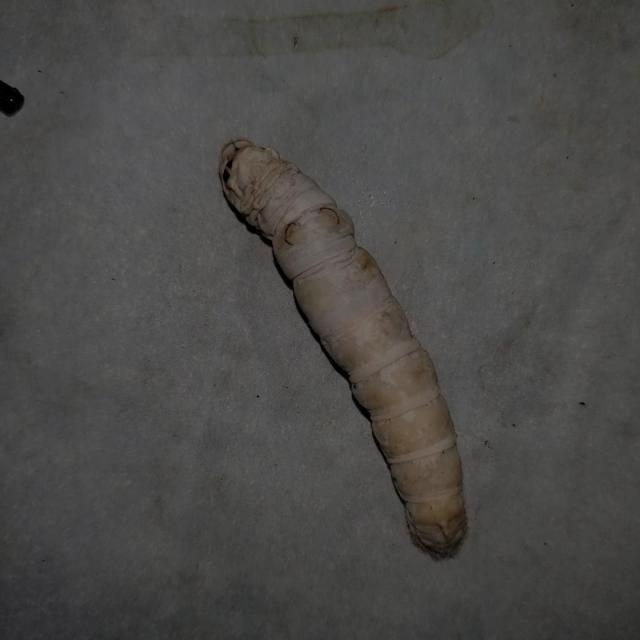Grasserie: (205, 120, 486, 571)
